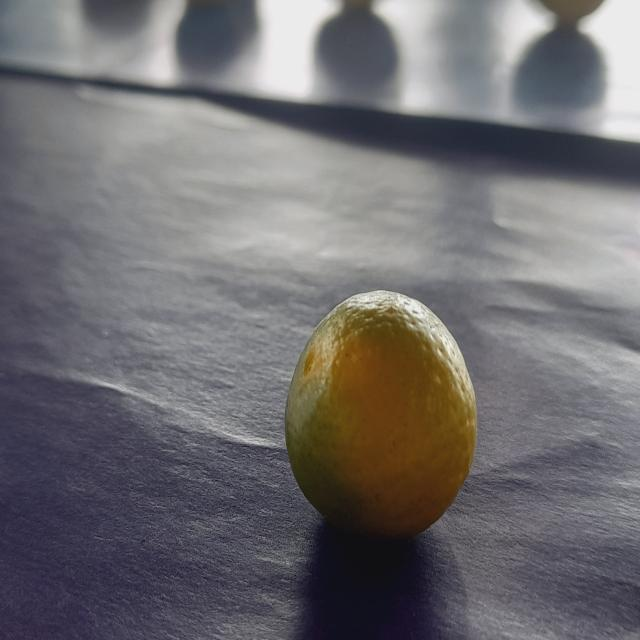greening: (272, 298, 490, 536)
